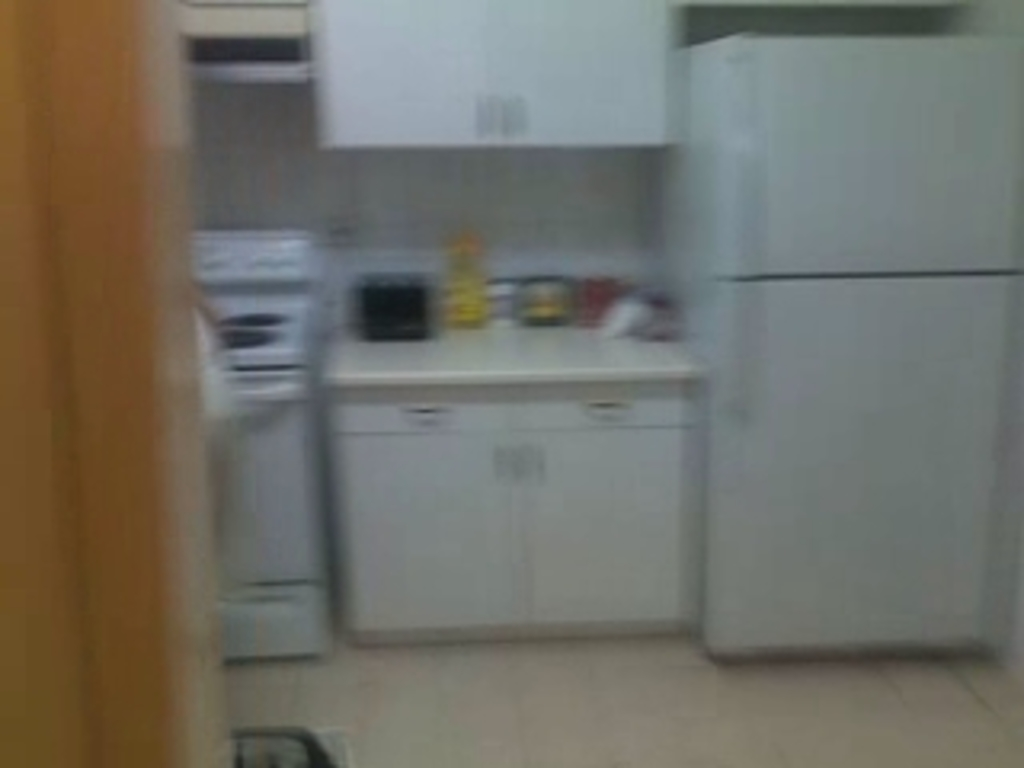cabinet door: (361, 438, 526, 618), (534, 442, 690, 614), (497, 3, 668, 143), (334, 4, 486, 132), (330, 388, 518, 429), (534, 397, 674, 426)
handle: (728, 61, 765, 283), (724, 285, 758, 429), (466, 93, 494, 143), (494, 106, 525, 145), (402, 403, 451, 426), (590, 400, 634, 425)
refrigerator door: (733, 288, 1006, 650), (732, 34, 1022, 279)
